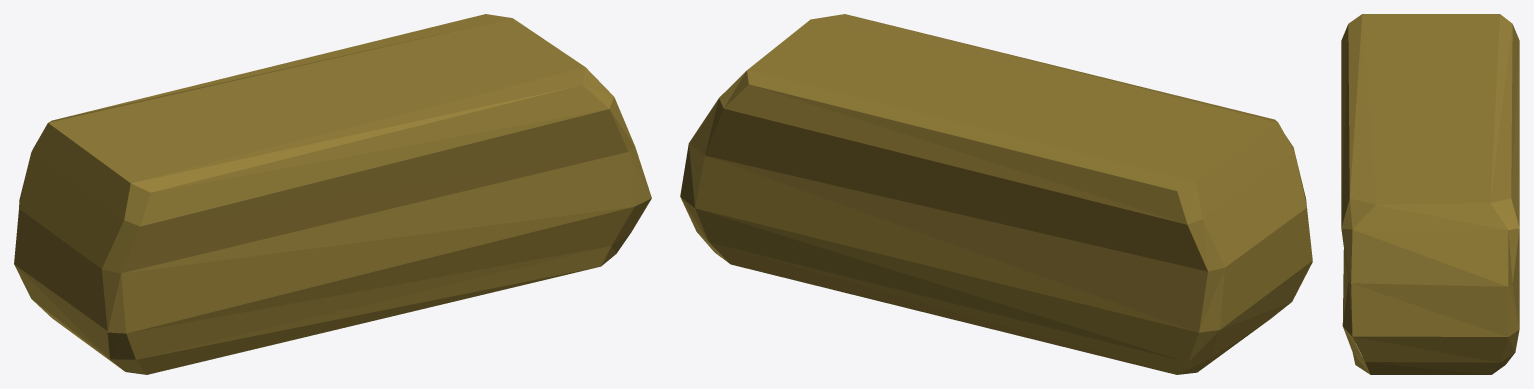
File: obj_brick_2_0.obj
3 views of the same model, side by side, from view 1: azimuth 30°, elevation 25°; view 2: azimuth 150°, elevation 25°; view 3: azimuth 270°, elevation 25° (orthographic). The views are drawn at different scales.
Bounding box in the file's own units: 2.94 × 1 × 1.
